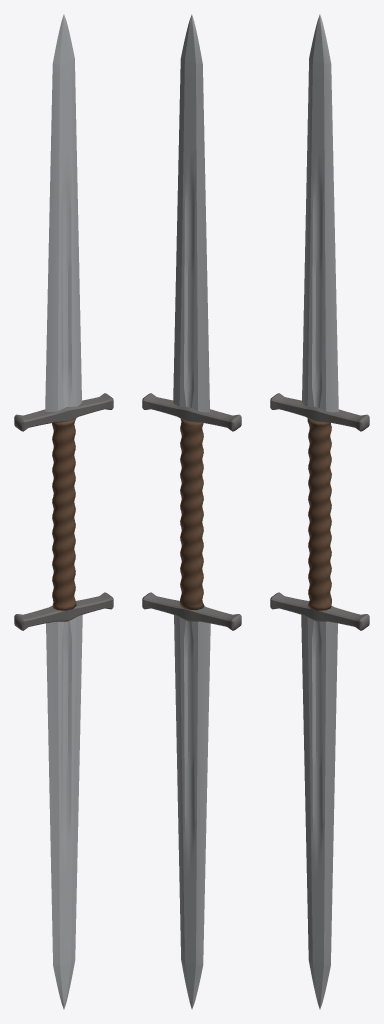
Rendered from two-bladed-sword.glb.
3 renders of one model, left to right at view 1: azimuth 30°, elevation 25°; view 2: azimuth 150°, elevation 25°; view 3: azimuth 330°, elevation 25°, orthographic.
Parts seen in each view (by area): view 1: two-bladed-sword; view 2: two-bladed-sword; view 3: two-bladed-sword.
Boxes of the visible parts, left/top/right/bottom form: two-bladed-sword: left=14, top=14, right=113, bottom=1009; two-bladed-sword: left=142, top=14, right=241, bottom=1009; two-bladed-sword: left=270, top=14, right=369, bottom=1009.
Bounding box in the file's own units: 0.34 × 3.4 × 0.0656.
